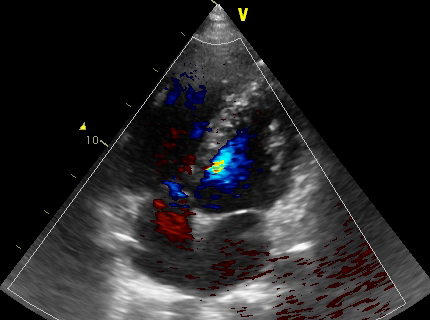TR: (145, 168, 194, 209)
